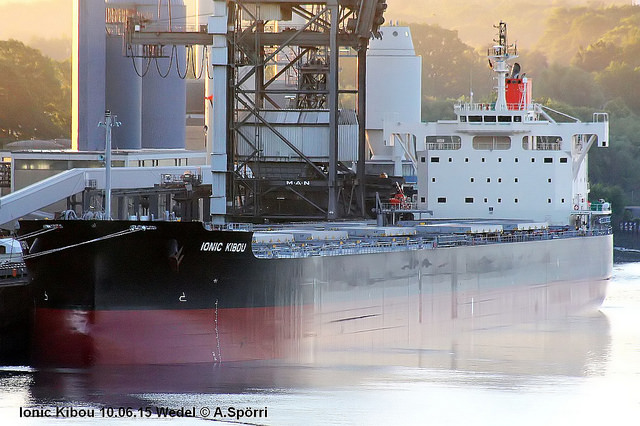bulk carrier: (22, 24, 617, 362)
